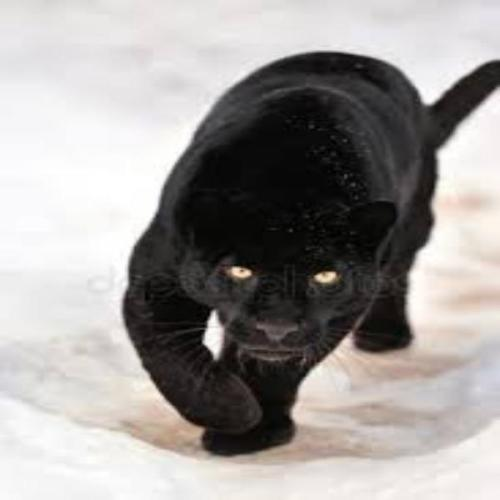panther-endangered: (118, 54, 500, 451)
